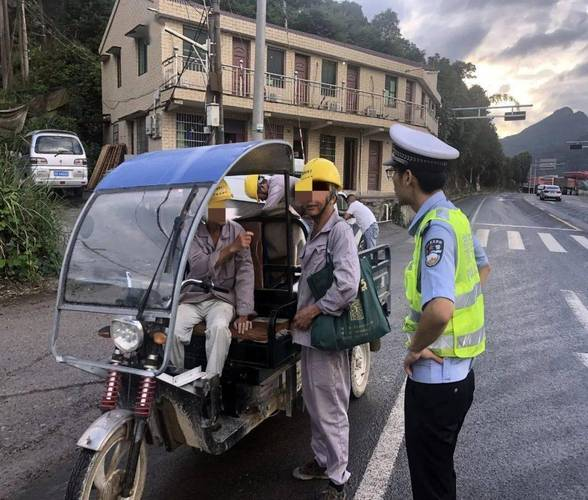driver: (136, 142, 263, 380)
overloading: (34, 100, 397, 490)
passenger: (278, 152, 371, 491), (235, 146, 343, 225)
